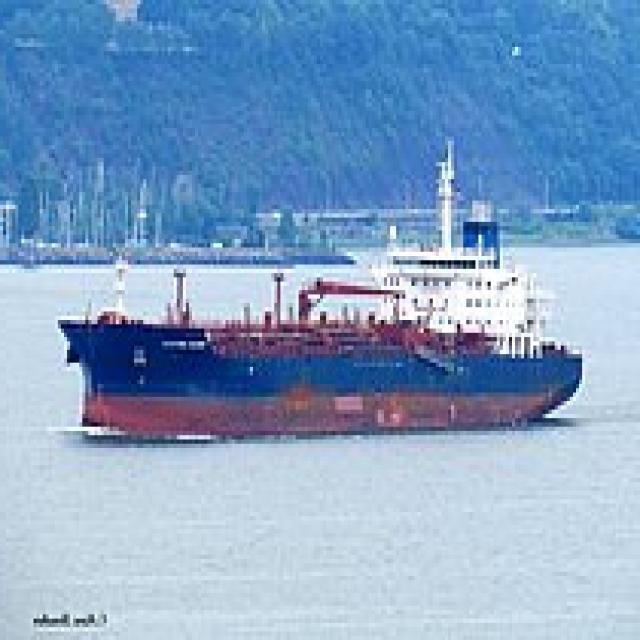Tanker: (61, 132, 588, 444)
